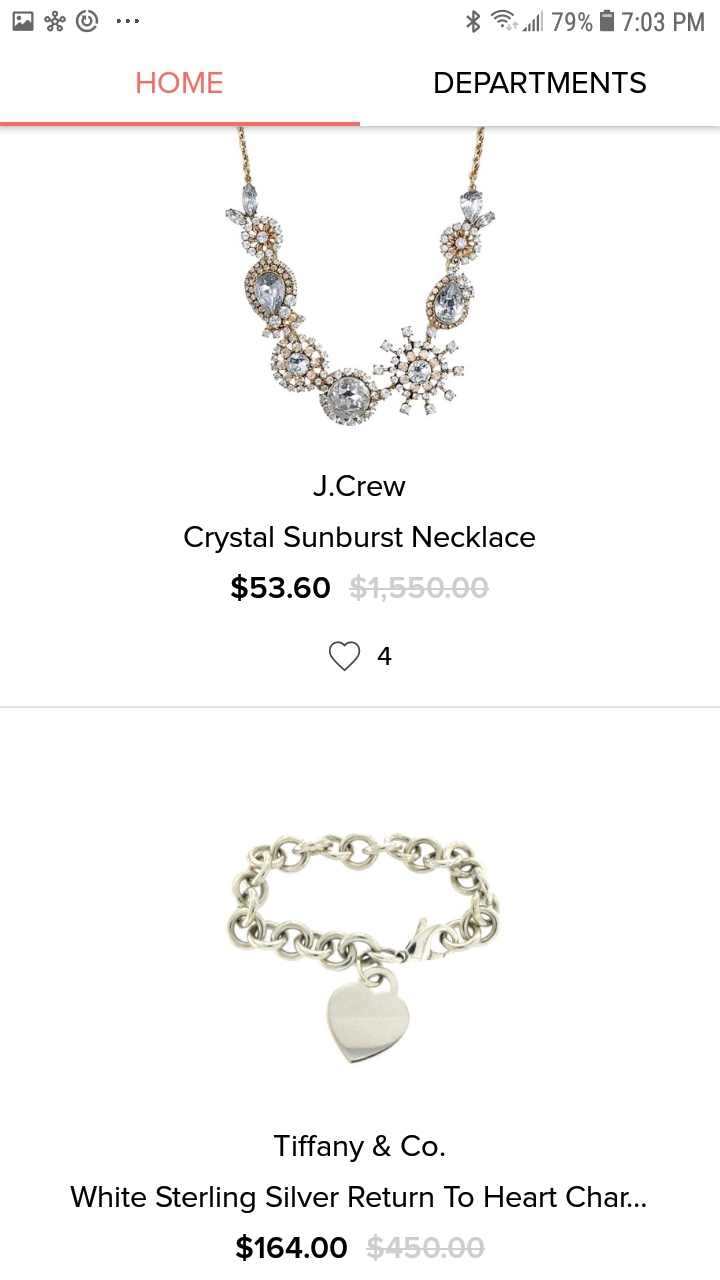Icon: (329, 641, 361, 672)
Image: (226, 127, 496, 427), (228, 833, 502, 1064)
Text: (71, 1185, 647, 1214), (184, 526, 536, 554), (232, 574, 490, 603), (236, 1234, 486, 1262), (274, 1134, 445, 1163), (434, 72, 647, 95), (313, 474, 407, 497), (137, 72, 224, 95), (377, 647, 393, 666)
UpperTaskBar: (1, 1, 720, 34)
